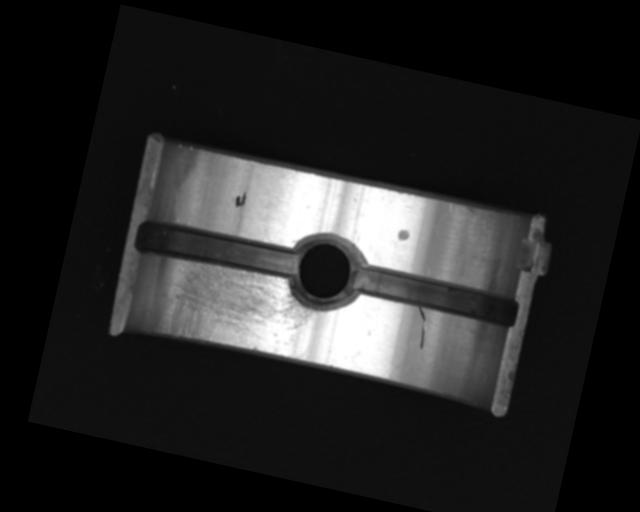blot: (233, 190, 248, 209)
bruise: (396, 227, 410, 242)
gap: (132, 214, 302, 285), (350, 260, 522, 330)
hole: (282, 227, 369, 319)
nick: (410, 304, 432, 349)
scratch: (157, 252, 323, 366)
